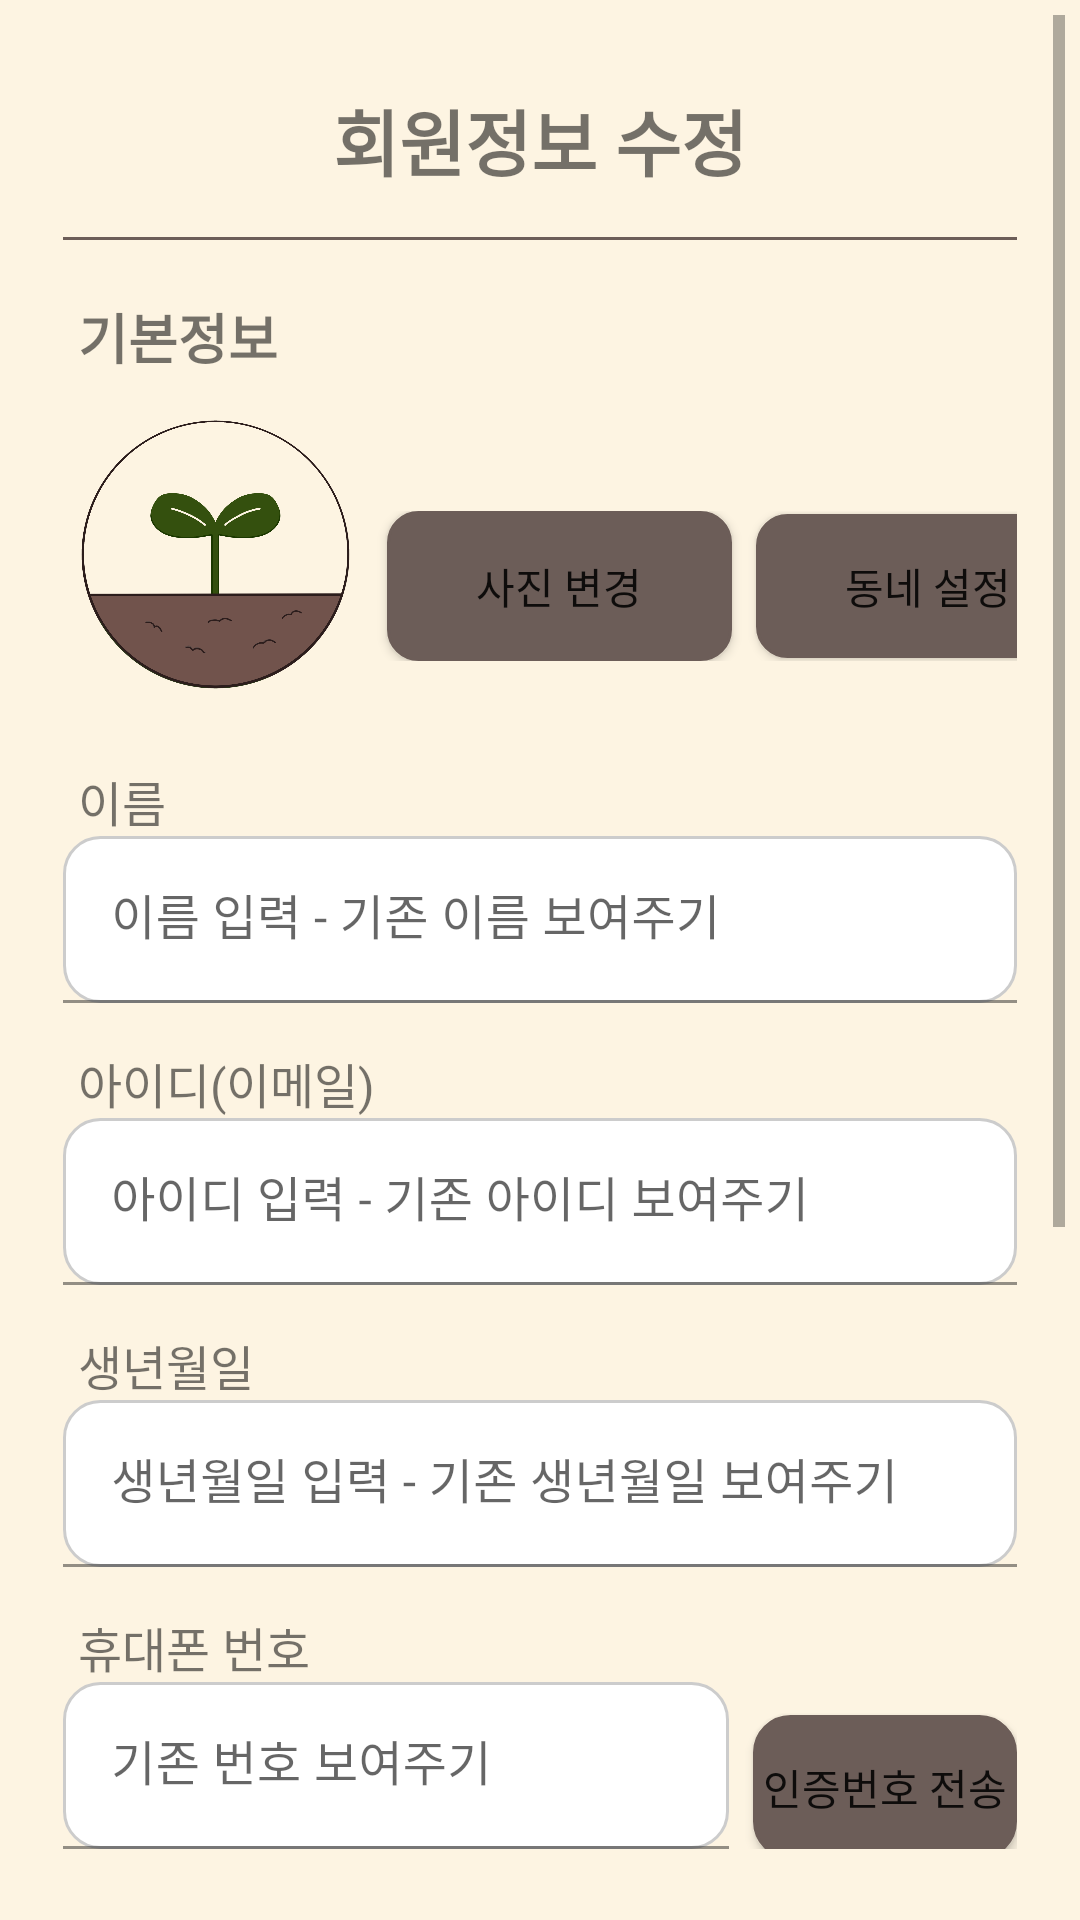

Screen size 1080*1920. Icon name, then its center in pixels as point (x, y):
프로필 사진: point (215, 554)
